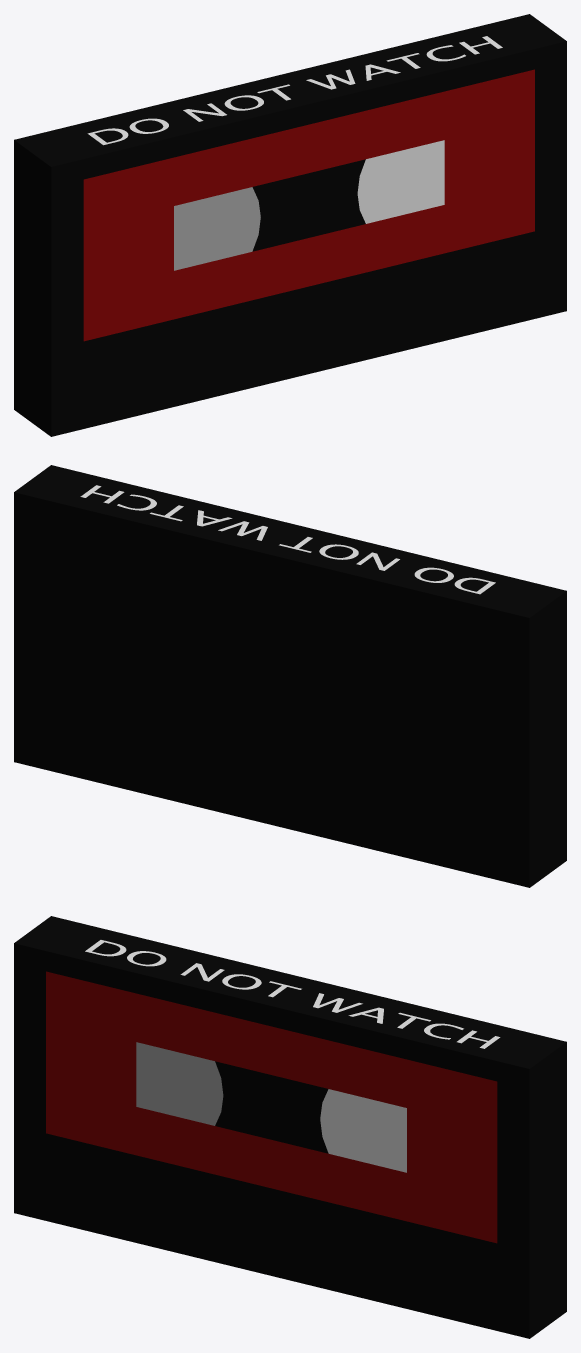
Rendered from ScaryTapeModel.fbx.
3 views of the same model, one above another, from view 1: azimuth 30°, elevation 25°; view 2: azimuth 150°, elevation 25°; view 3: azimuth 330°, elevation 25° (orthographic).
Parts seen in each view (by area): view 1: Base, Detail1, TapeWheel2, TapeWheel1, Text; view 2: Base, Text; view 3: Base, Detail1, TapeWheel1, TapeWheel2, Text.
Part boxes in pixels (x1,y1,x2,y2): Base: [14, 14, 566, 436]; Detail1: [83, 69, 534, 341]; TapeWheel2: [357, 140, 444, 223]; TapeWheel1: [174, 187, 260, 270]; Text: [87, 36, 502, 145]; Base: [14, 465, 566, 887]; Text: [80, 485, 495, 594]; Base: [14, 916, 566, 1338]; Detail1: [46, 971, 497, 1243]; TapeWheel1: [136, 1042, 223, 1125]; TapeWheel2: [320, 1089, 406, 1172]; Text: [85, 940, 500, 1048].
Size of the model in its own units: 1.6 by 0.8 by 0.2008.
